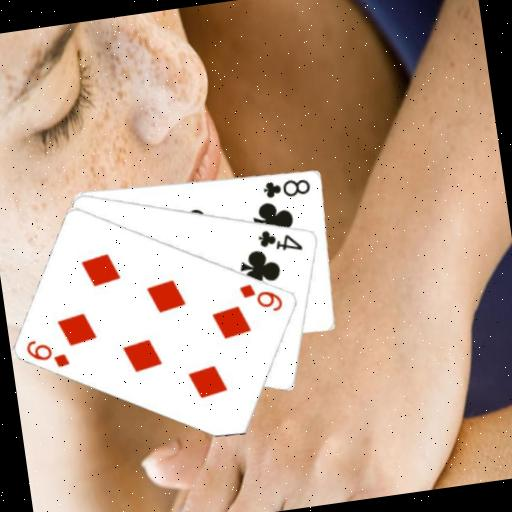4C: (255, 222, 306, 257)
6D: (236, 276, 286, 318), (23, 332, 73, 374)
8C: (259, 172, 314, 201)
